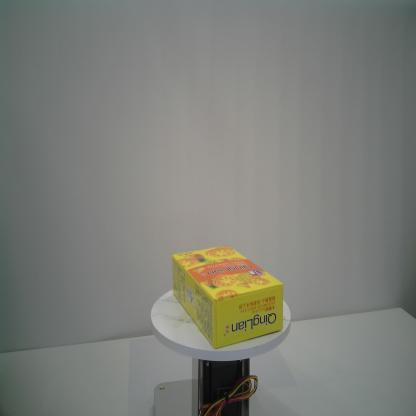Dessert: (169, 242, 286, 350)
